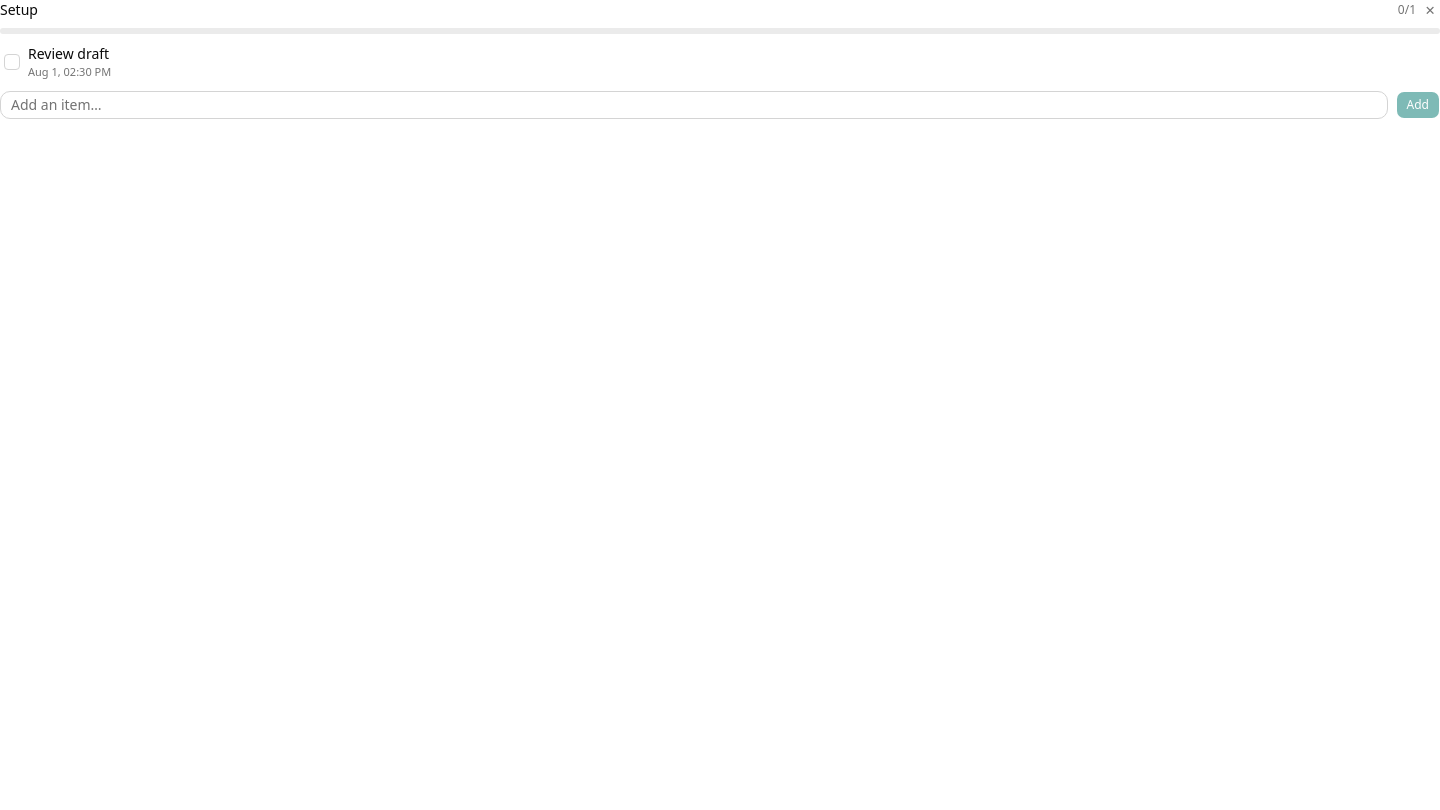
TaskChecklist › pre-fills the edit dialog's due date from an existing subtask
Click the text "Review draft".
click(69, 54)  # box [28,44,109,63]
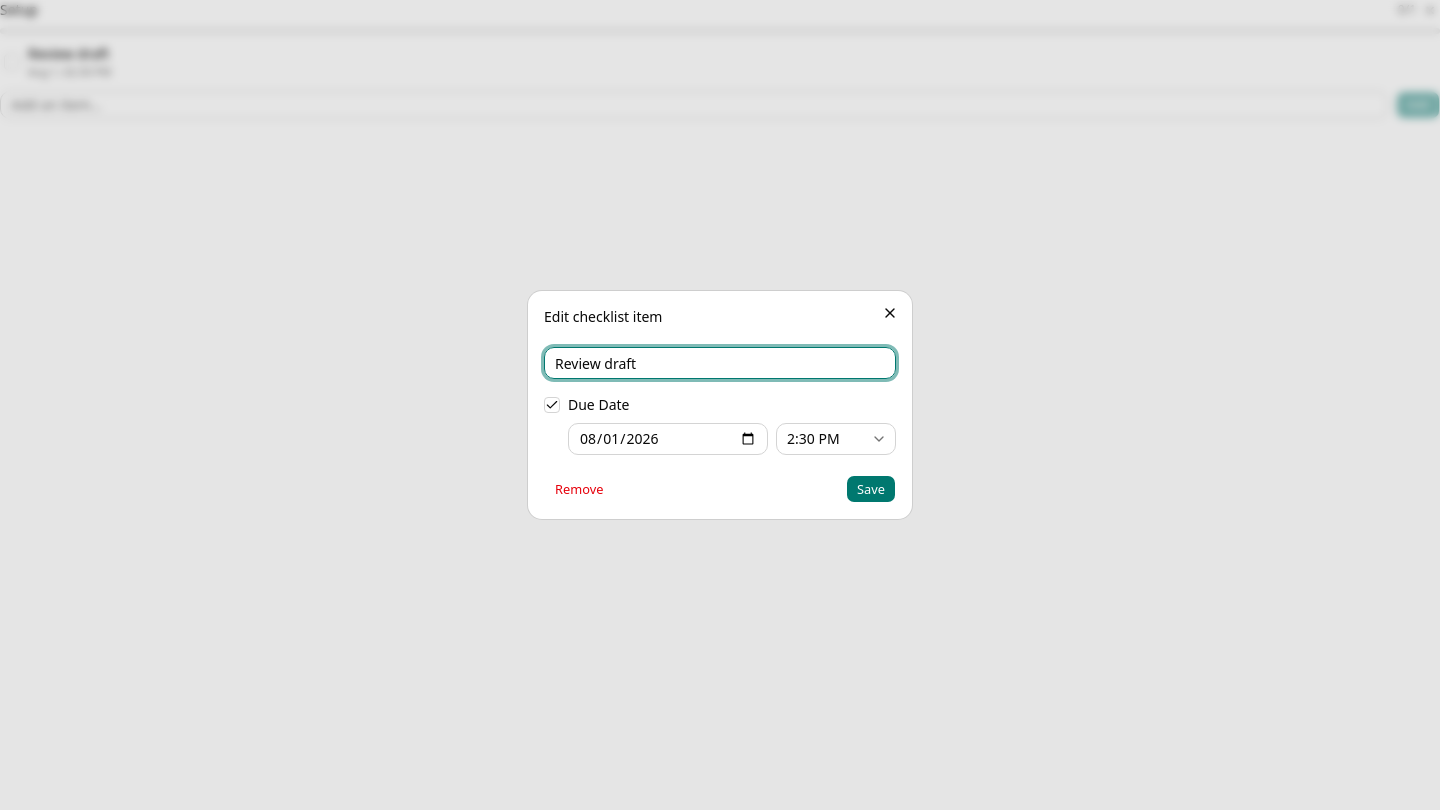
Expected: the checkbox named "Due Date" is checked, [544,397,560,413]
Expected: the date field holds "2026-08-01", [568,423,768,455]
